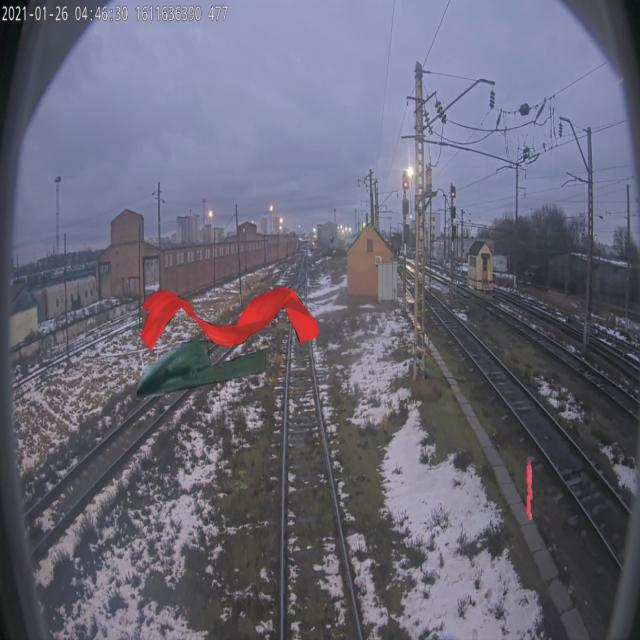floating object: (140, 287, 319, 351), (137, 336, 266, 401), (526, 457, 534, 521)
